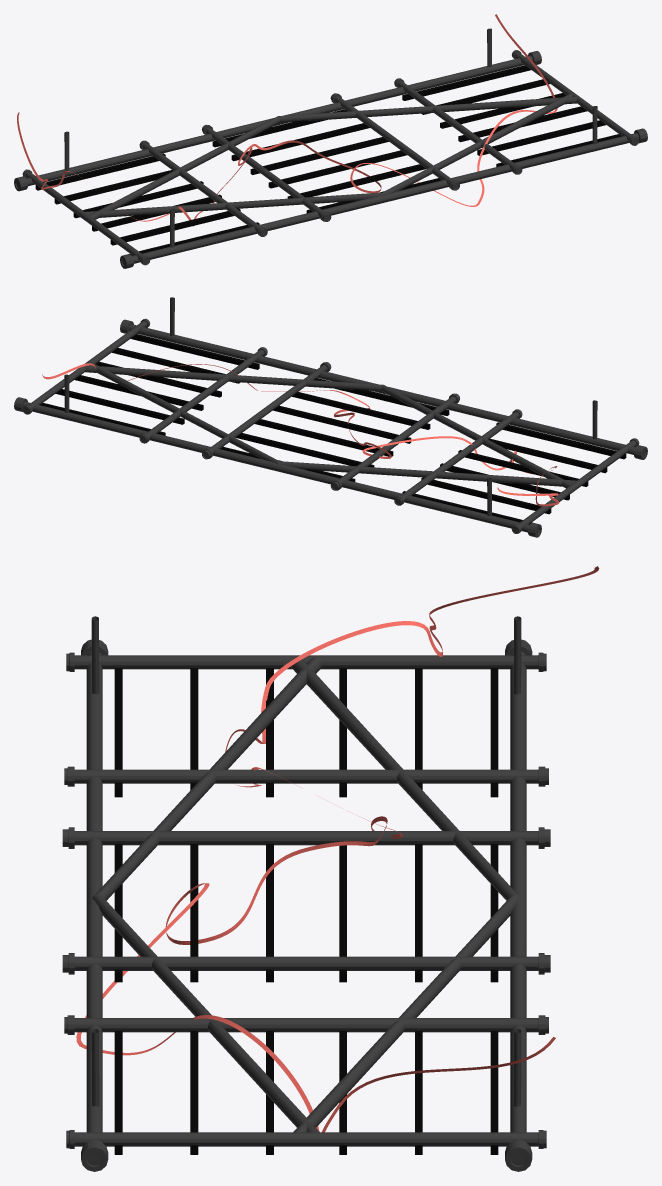
The model's file is light.glb.
3 views of the same model, one above another, from view 1: azimuth 30°, elevation 25°; view 2: azimuth 150°, elevation 25°; view 3: azimuth 270°, elevation 25° (orthographic). The views are drawn at different scales.
Visible parts, largest first — view 1: Cube.001_0; view 2: Cube.001_0; view 3: Cube.001_0.
Boxes of the visible parts, x1,y1,x2,y2 form: Cube.001_0: (14, 14, 647, 268); Cube.001_0: (14, 297, 647, 537); Cube.001_0: (62, 566, 599, 1171).
Bounding box in the file's own units: 4.66 × 0.6796 × 2.08.
